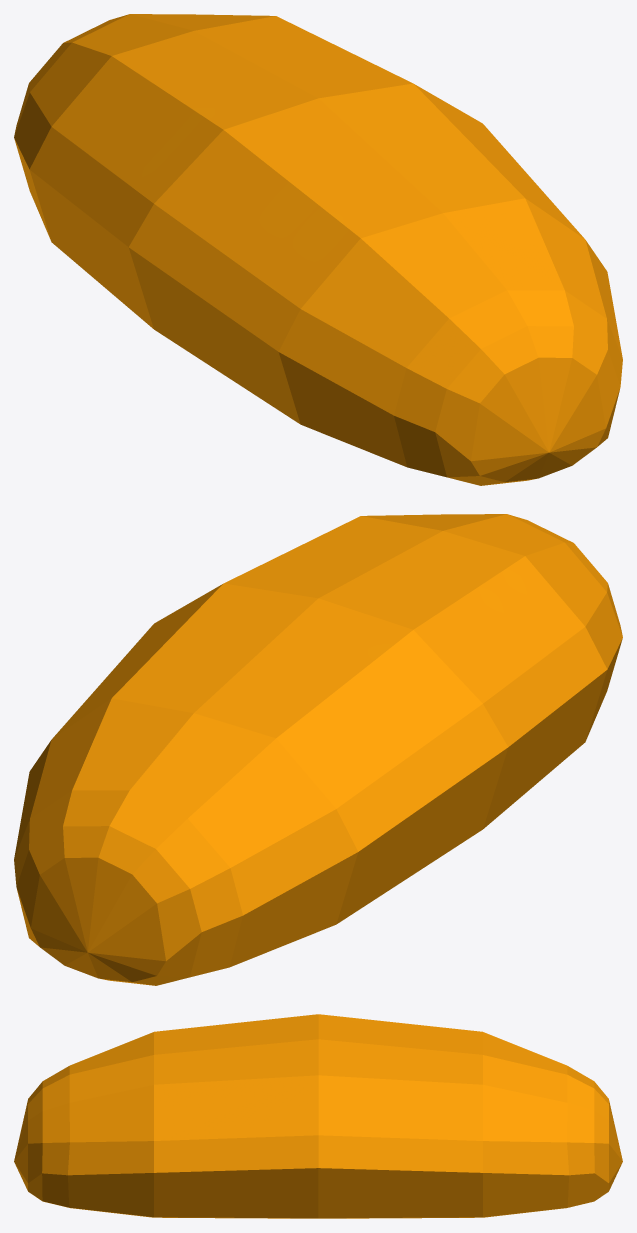
The model's file is Bread.fbx.
3 renders of one model, top to bottom at view 1: azimuth 30°, elevation 25°; view 2: azimuth 150°, elevation 25°; view 3: azimuth 270°, elevation 25°, orthographic. The views are drawn at different scales.
Parts seen in each view (by area): view 1: Bread; view 2: Bread; view 3: Bread.
Boxes of the visible parts, x1,y1,x2,y2 form: Bread: [14, 14, 622, 485]; Bread: [14, 514, 622, 985]; Bread: [14, 1014, 622, 1218].
Bounding box in the file's own units: 11.93 × 7.25 × 25.11.
